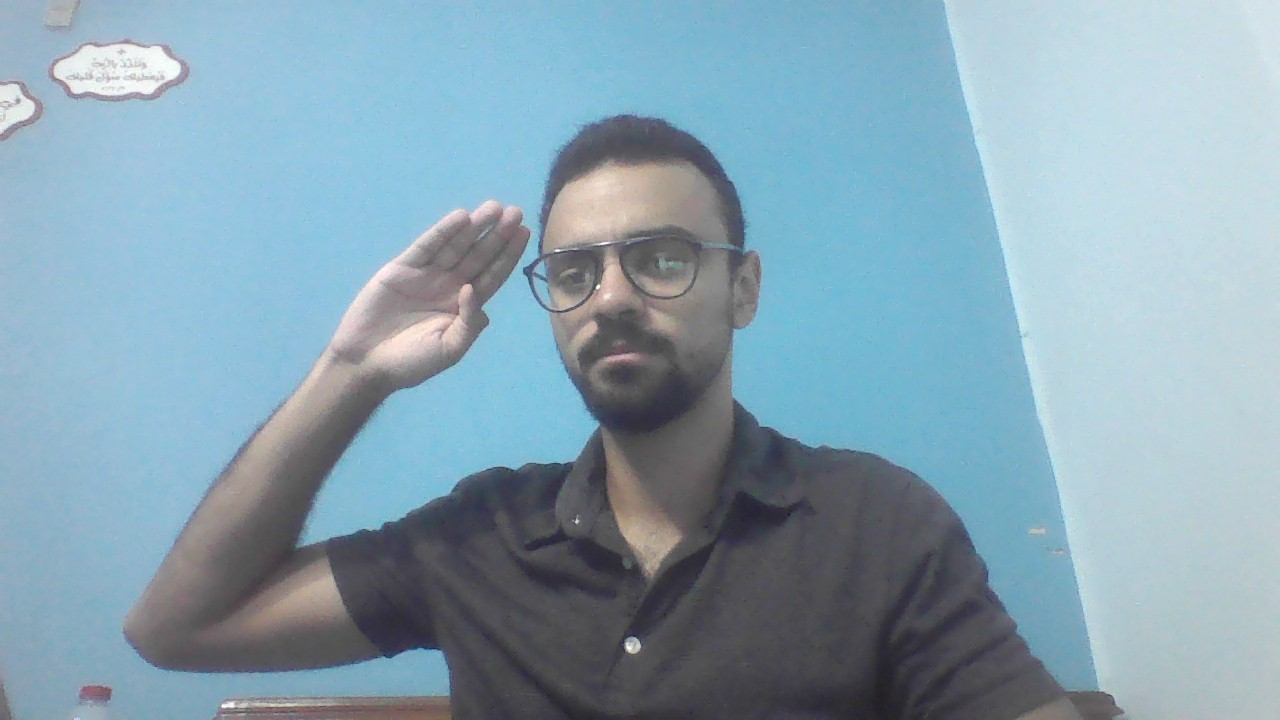hello: (127, 198, 525, 658)
